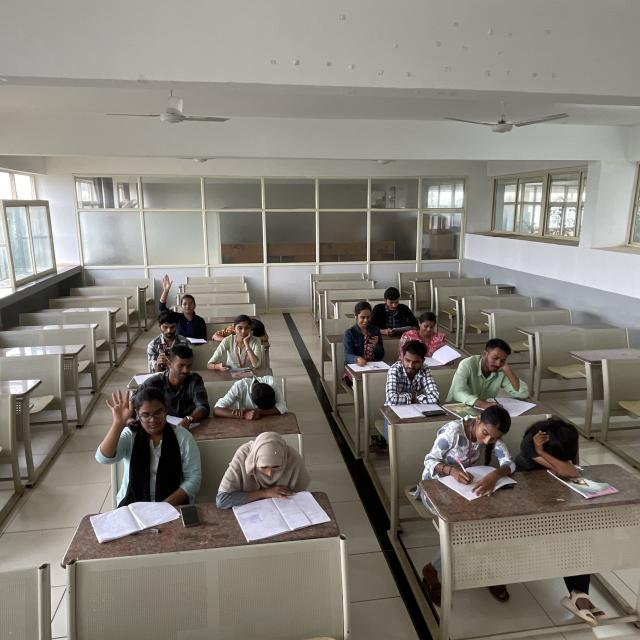Hand Rising: (93, 383, 203, 499), (160, 271, 211, 333)
Reading: (214, 429, 312, 509), (399, 312, 460, 368), (365, 284, 421, 338)
Sleeping: (518, 405, 594, 479), (214, 372, 288, 419), (213, 313, 274, 347)
Using Phone: (341, 300, 388, 377), (140, 309, 193, 364)
Writing: (422, 405, 518, 493), (452, 338, 540, 410)
